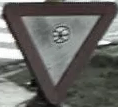Give way: (1, 2, 114, 101)
